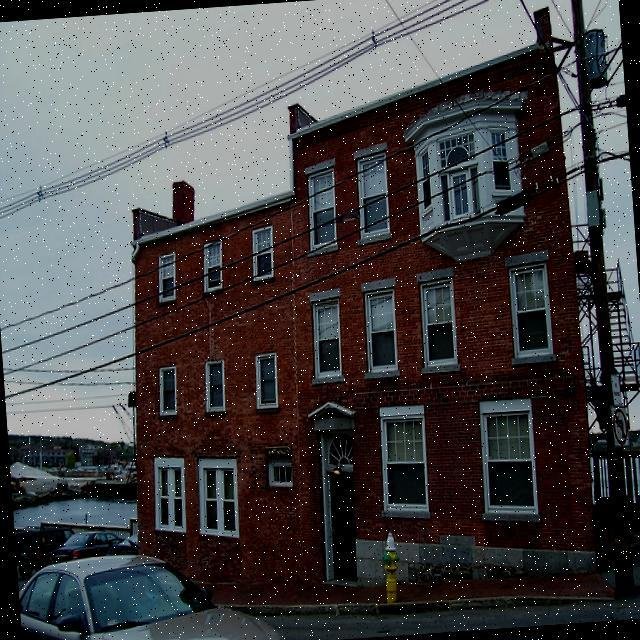fire_hydrant: (379, 530, 404, 602)
